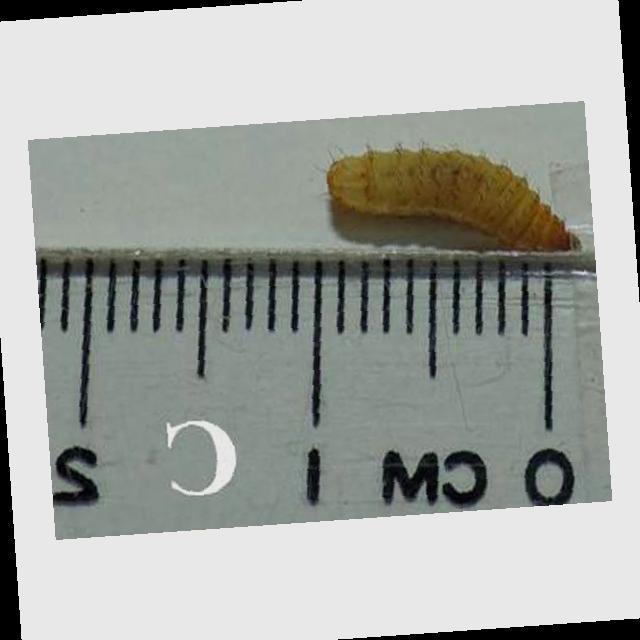Maggot: (322, 145, 584, 259)
